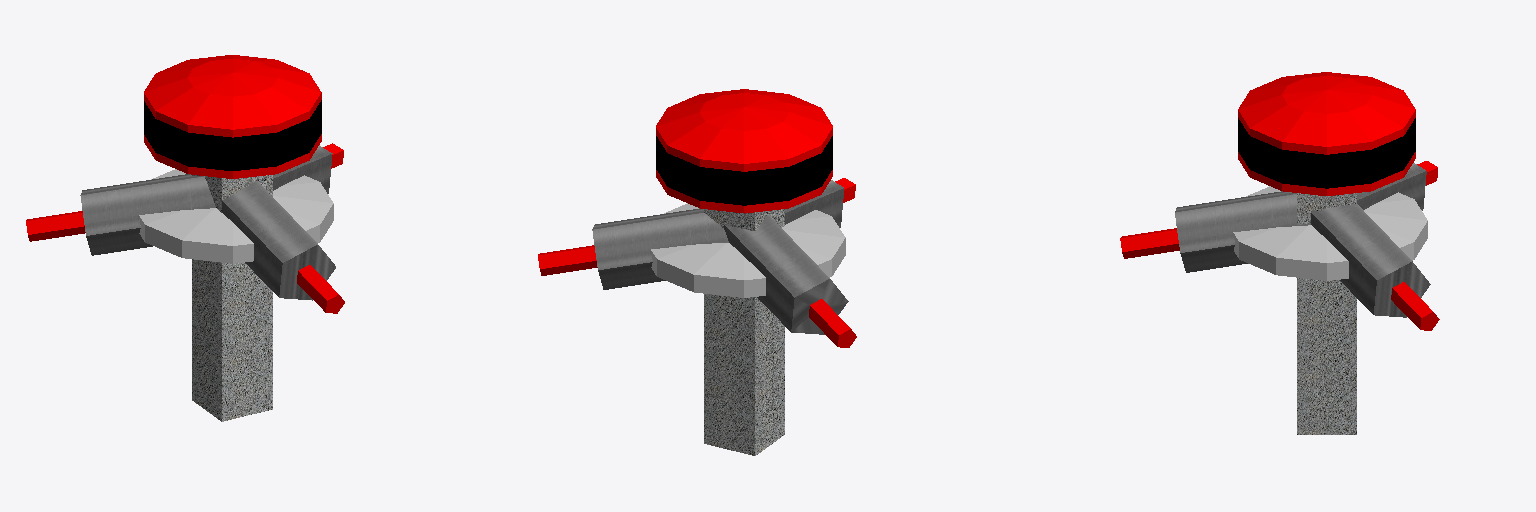
The picture shows the model from 3 angles: view 1: azimuth 30°, elevation 25°; view 2: azimuth 150°, elevation 25°; view 3: azimuth 270°, elevation 25°; orthographic projection.
Size of the model in its own units: 3.51 by 3.5 by 3.06.
5 materials, 2 textured.